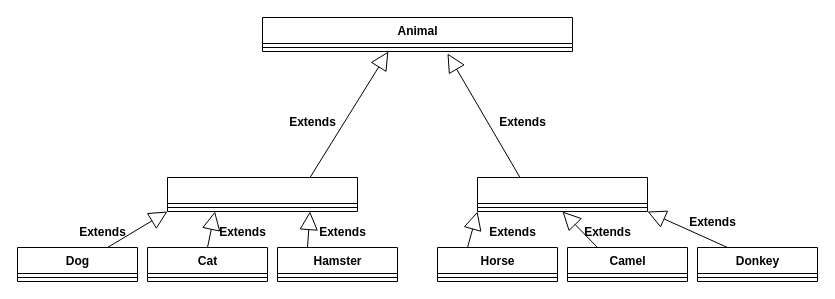
This 835x299 diagram has some shape labels left out. The shapes that lost their labels are listed below. From the top down, each one's centre as x and y in pixels, then its label:
At [262,194]: "Pets".
At [562,194]: "PackAnimals".
